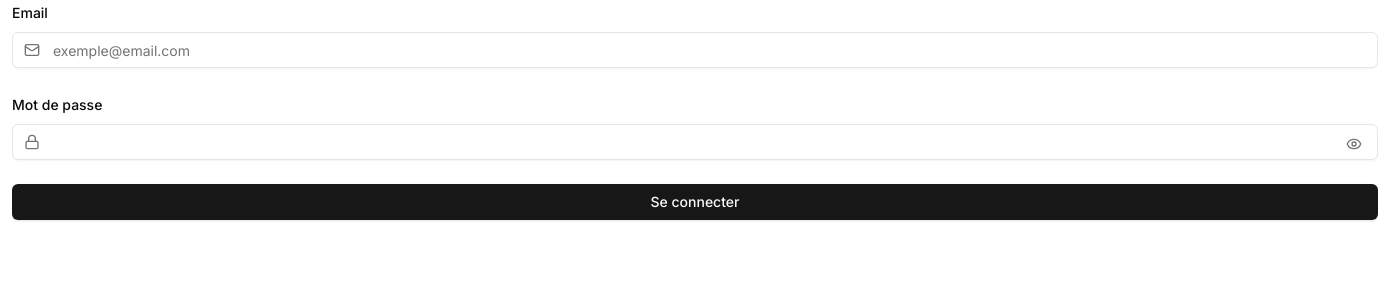
Test: LoginForm › devrait afficher les erreurs de validation
Step 1. Click the button "Se connecter" → [695, 202], box left=12, top=184, right=1378, bottom=220
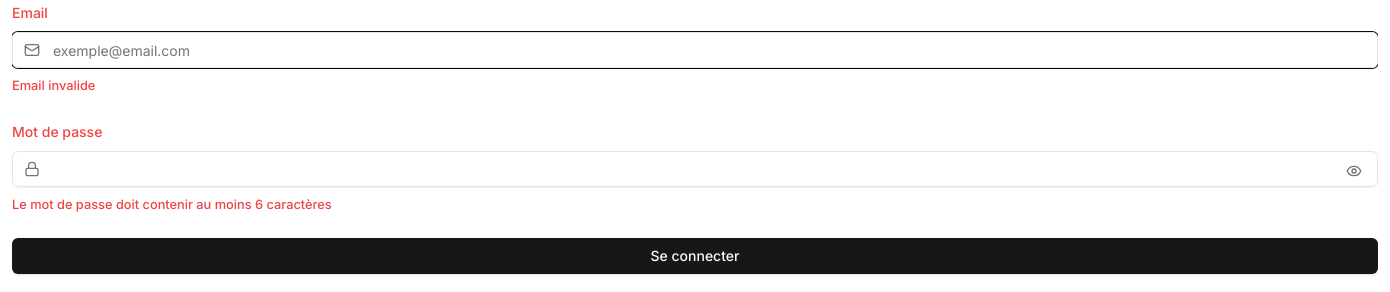
Expected: the text "Email invalide" is shown, left=12, top=78, right=95, bottom=93
Expected: the text "Le mot de passe doit contenir au moins 6 caractères" is shown, left=12, top=197, right=332, bottom=212
